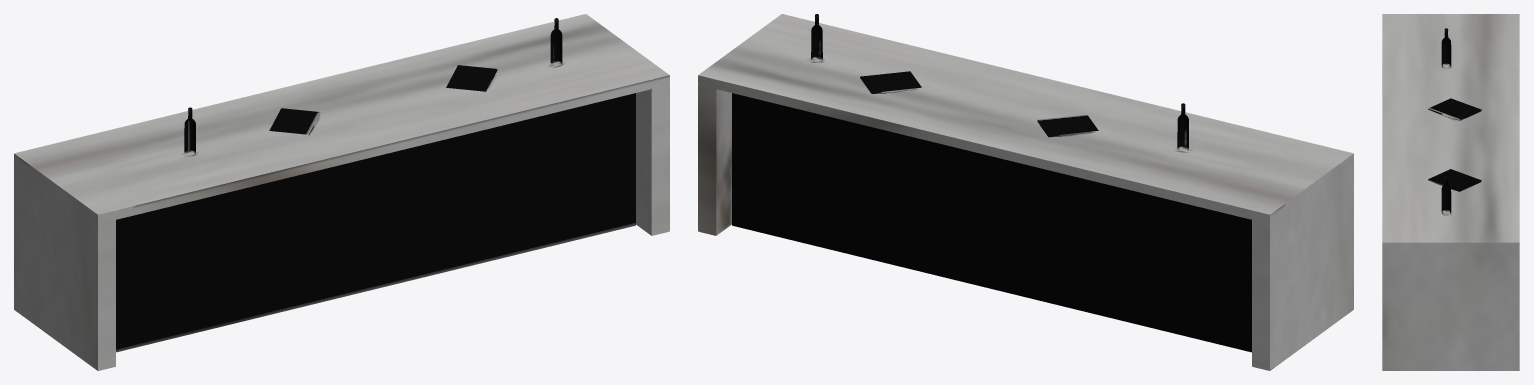
The model's file is Kitchen_02.obj.
3 views of the same model, side by side, from view 1: azimuth 30°, elevation 25°; view 2: azimuth 150°, elevation 25°; view 3: azimuth 270°, elevation 25° (orthographic). The views are drawn at different scales.
Parts seen in each view (by area): view 1: Bake; view 2: Bake; view 3: Bake.
Part boxes in pixels (x1,y1,x2,y2): Bake: [14, 14, 669, 370]; Bake: [698, 14, 1353, 370]; Bake: [1382, 14, 1519, 370].
Bounding box in the file's own units: 9.59 × 3.26 × 2.44.
Materials: 1 (1 with a texture image).
